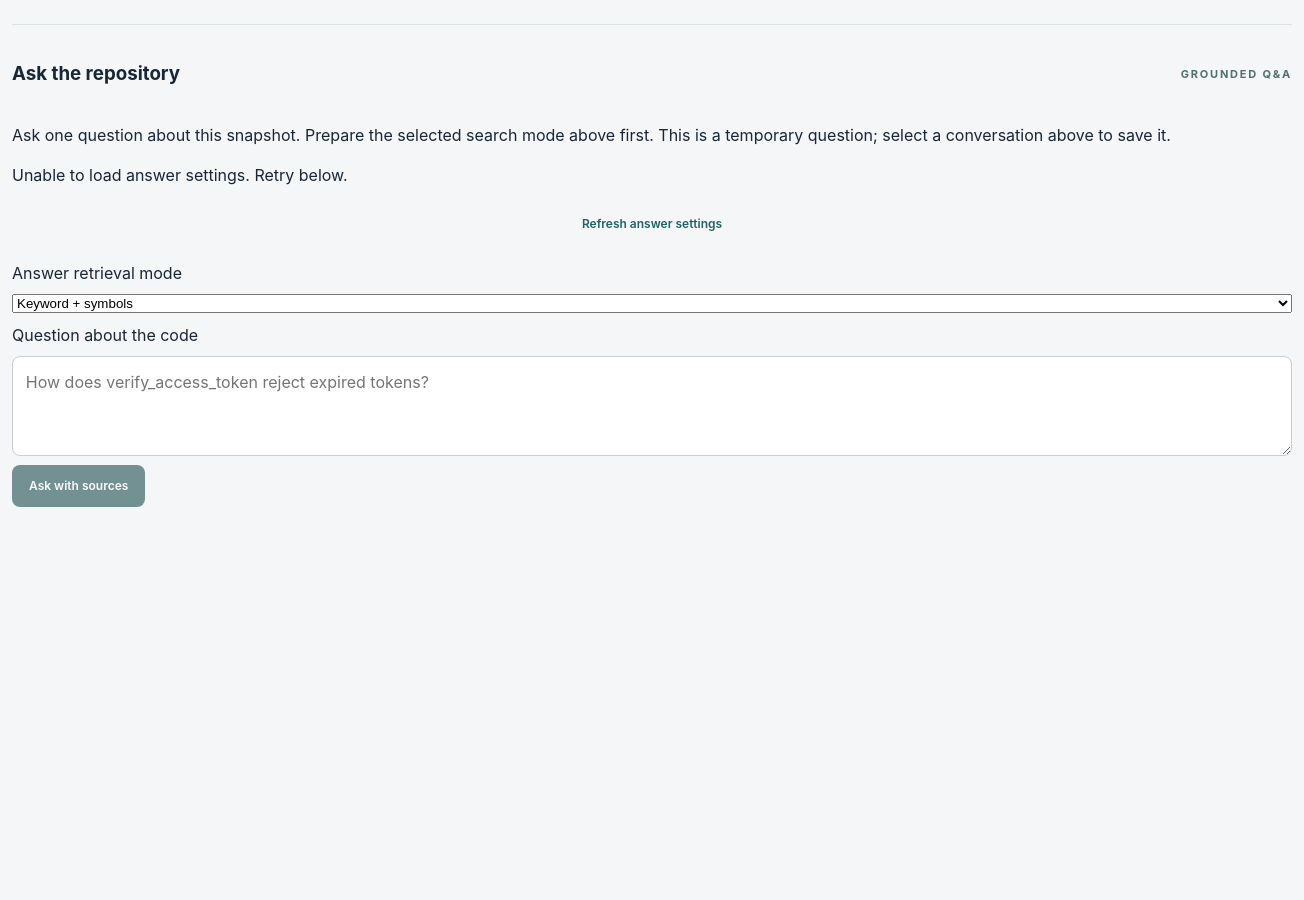
Test: grounded answer panel › recovers from a settings failure and surfaces refusal
The width and height of the screenshot is (1304, 900).
Expected: the message shows "Unable to load answer settings", [12,164,348,184]
Click the button "Refresh answer settings": click(652, 224) [565,202,739,244]
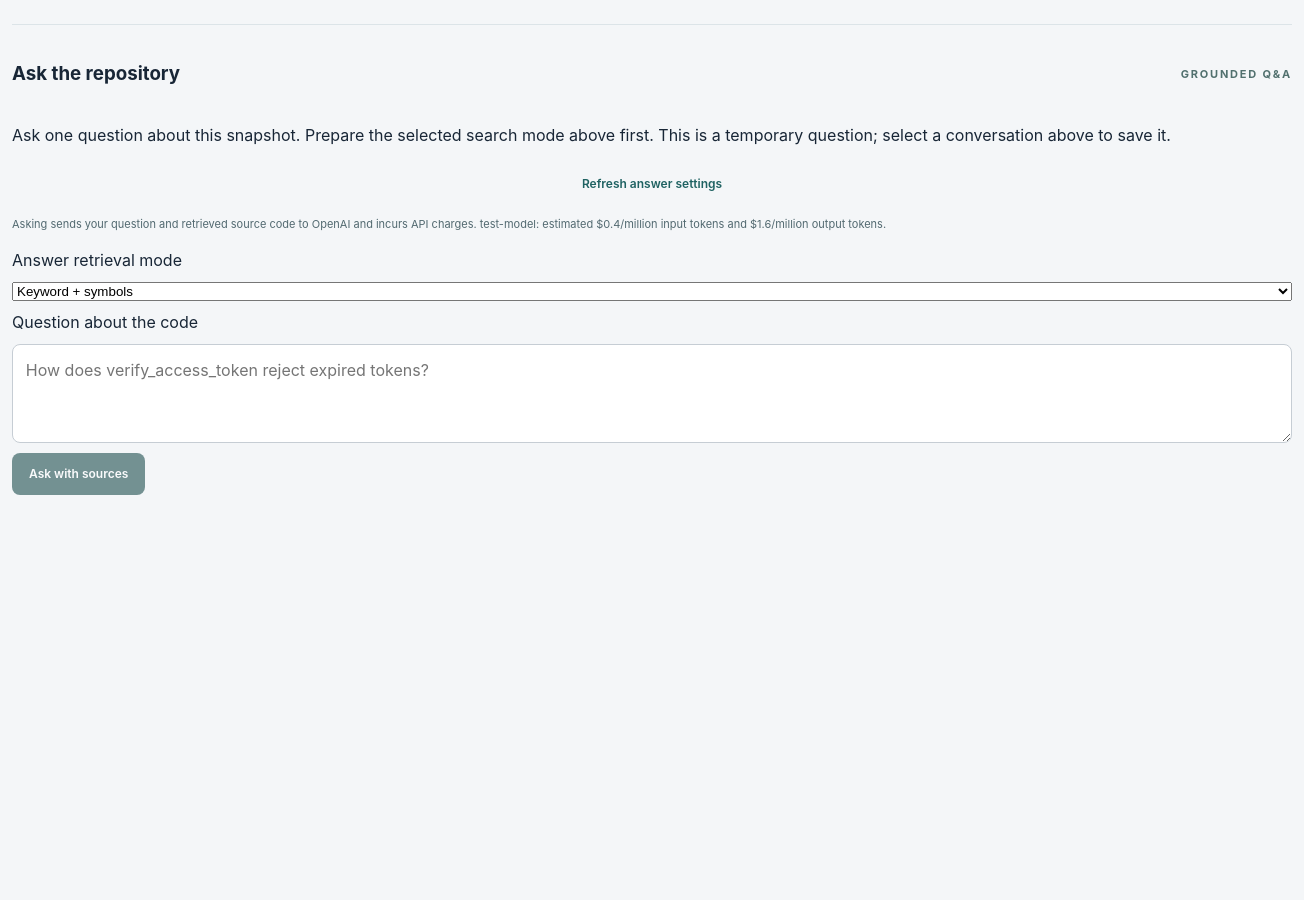
Now the text "test-model: estimated" is shown, box [12,216,886,230]
In the text box labelled "Question about the code": (652, 394) [12,344,1292,443], type "What does hello do?"
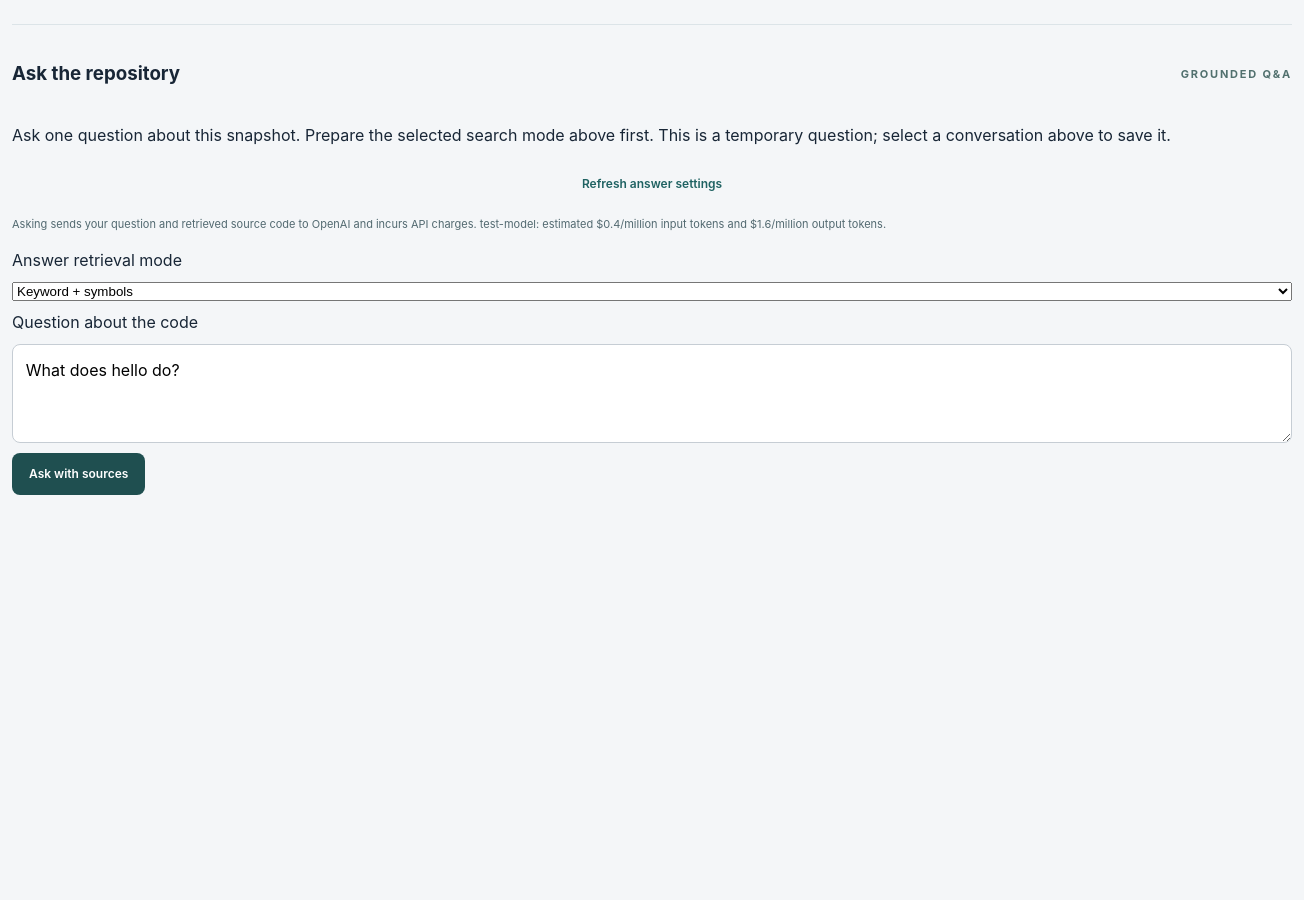
Click the button "Ask with sources": click(79, 474) [12,453,145,495]
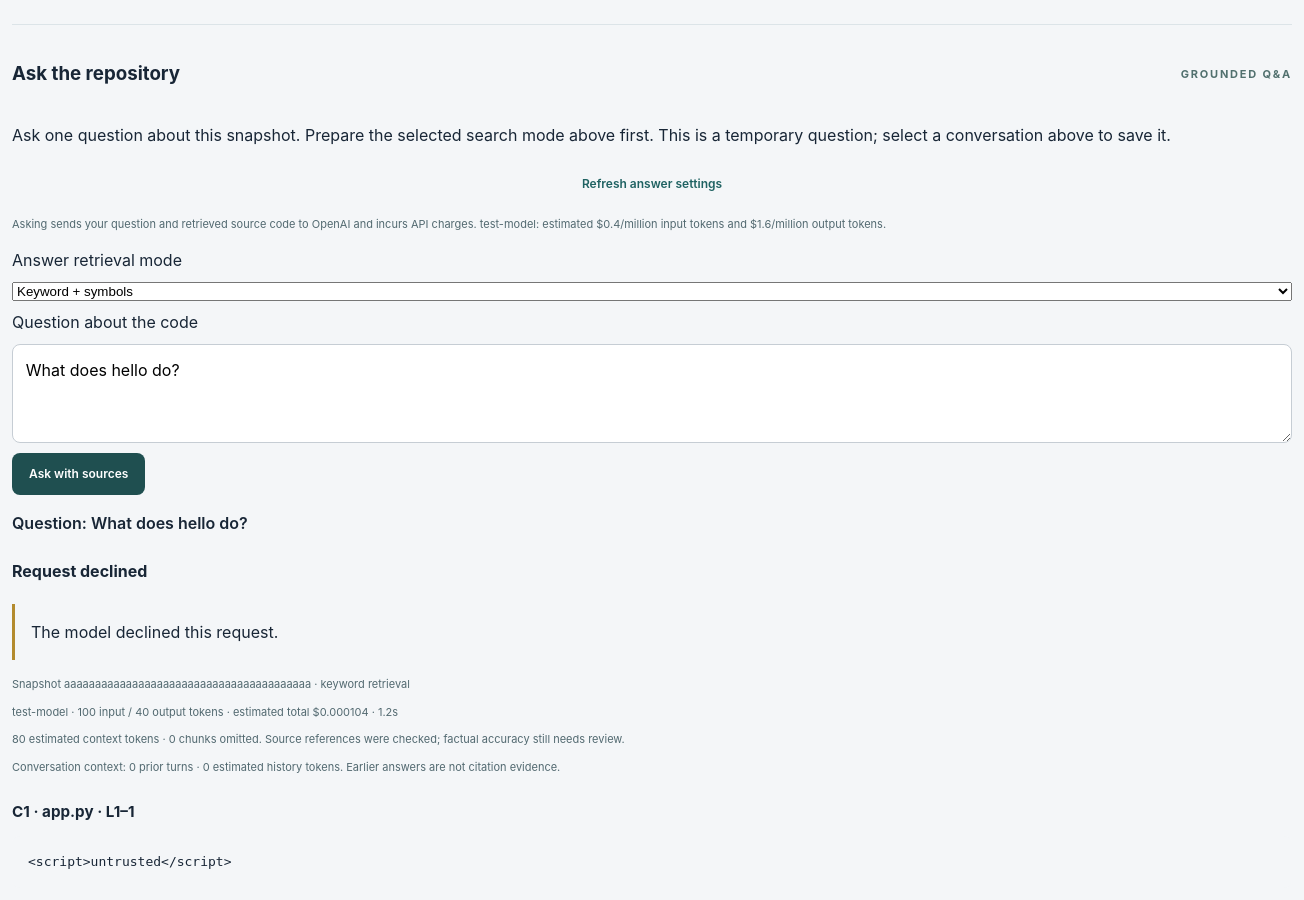
Now the heading "Request declined" is shown, box [12,561,147,581]
